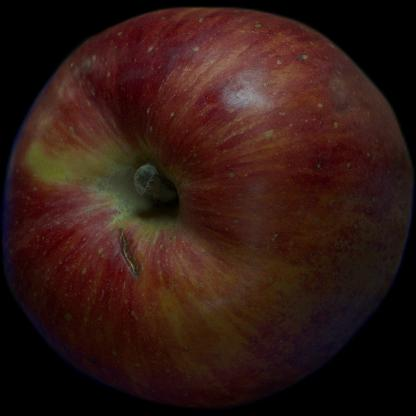defect: (93, 214, 170, 295)
